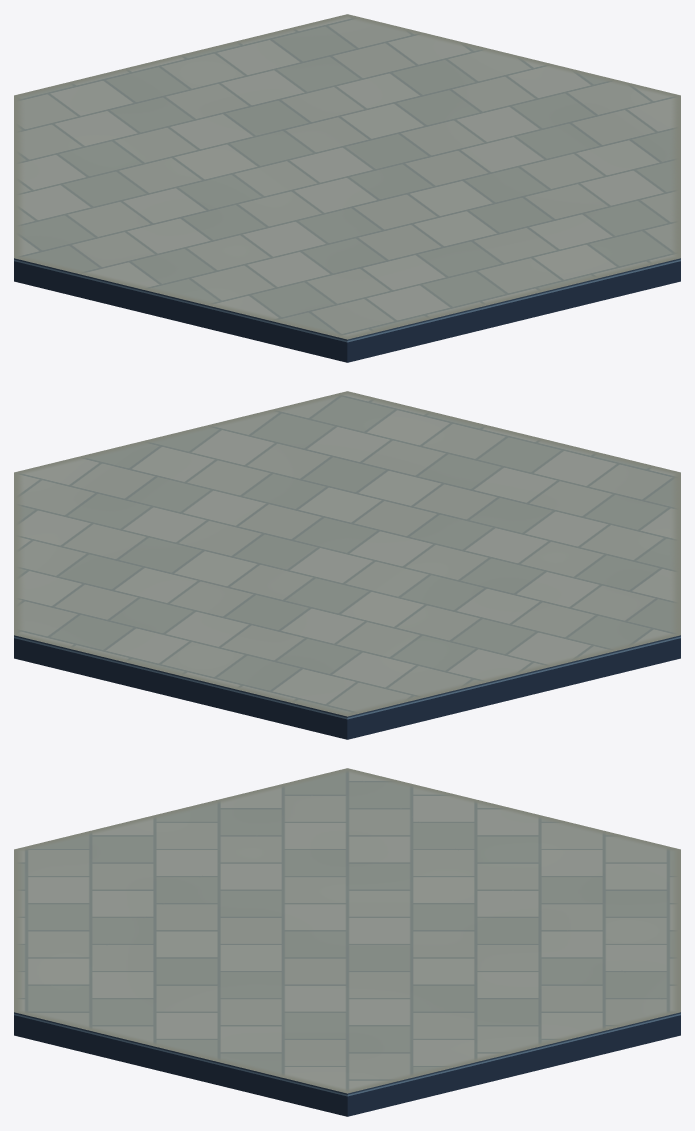
3 renders of one model, top to bottom at view 1: azimuth 30°, elevation 25°; view 2: azimuth 150°, elevation 25°; view 3: azimuth 270°, elevation 25°, orthographic.
Visible parts, largest first — view 1: campus_tile_civic; view 2: campus_tile_civic; view 3: campus_tile_civic.
Part boxes in pixels (left/top/right/bottom): campus_tile_civic: left=14, top=14, right=680, bottom=362; campus_tile_civic: left=14, top=391, right=680, bottom=739; campus_tile_civic: left=14, top=768, right=680, bottom=1116.
Size of the model in its own units: 36 by 1.2 by 31.18.
1 material, 1 textured.
